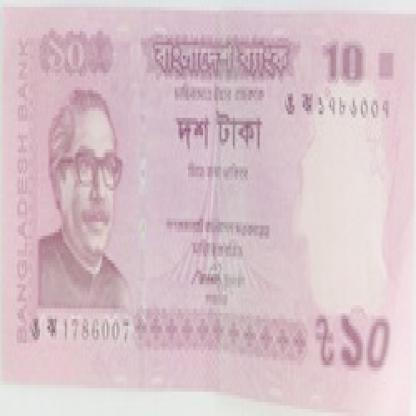Ten Taka: (173, 111, 265, 156), (335, 305, 394, 374), (38, 27, 95, 80), (318, 35, 371, 90)
